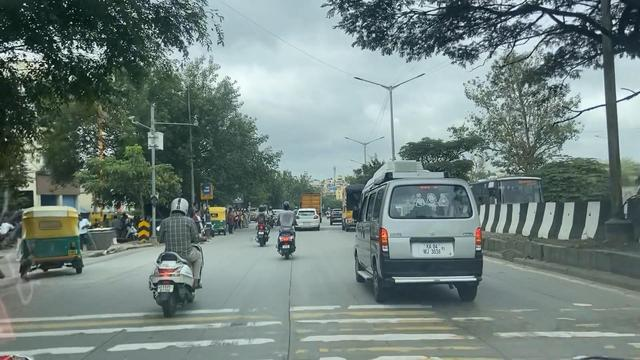LMV: (349, 179, 480, 299), (150, 192, 203, 313)
SpeedBump: (6, 307, 633, 360)
